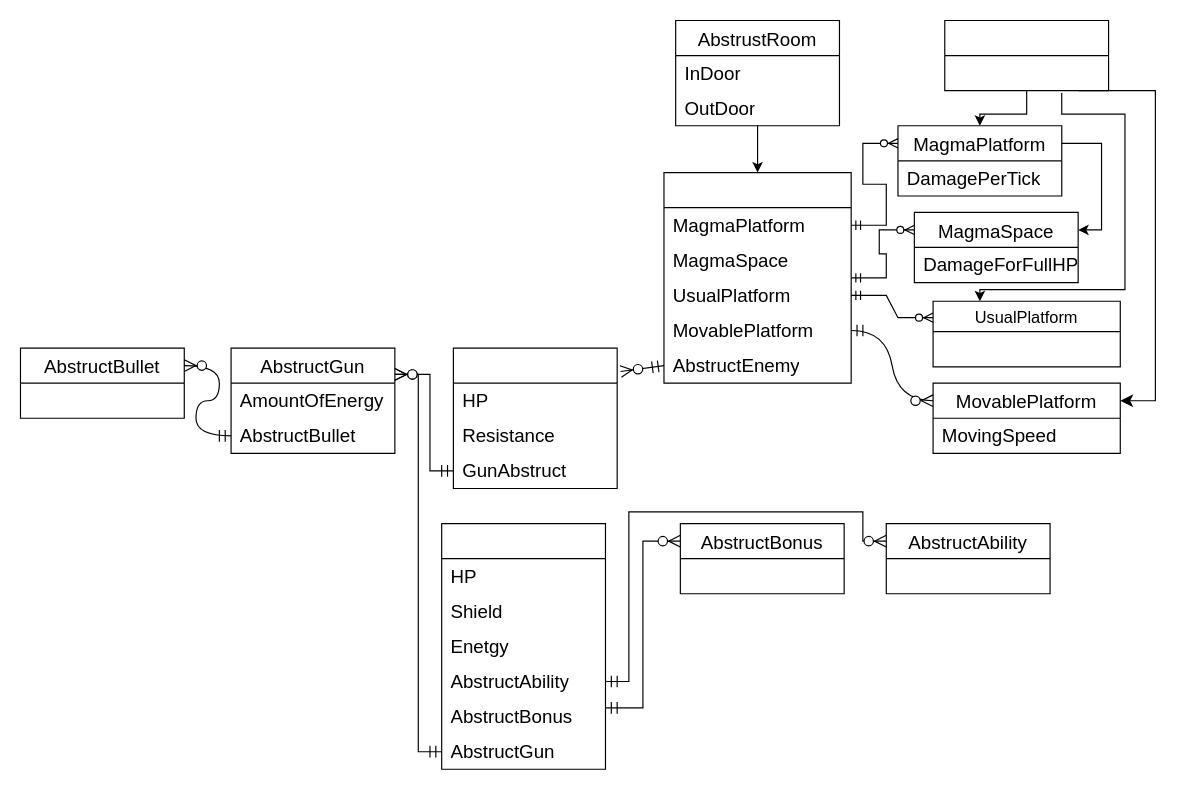
Image size: 1188x790. Some labels were removed from this diagram. The shapes that lost their labels are listed below. From the top down, each one's box as (x1, y1, x2, y2) in pixels, then its label:
(944, 19, 1109, 91): AbstructPlatform
(663, 171, 851, 383): Lava
(452, 347, 617, 488): AstructEnemy
(441, 522, 605, 769): Player
